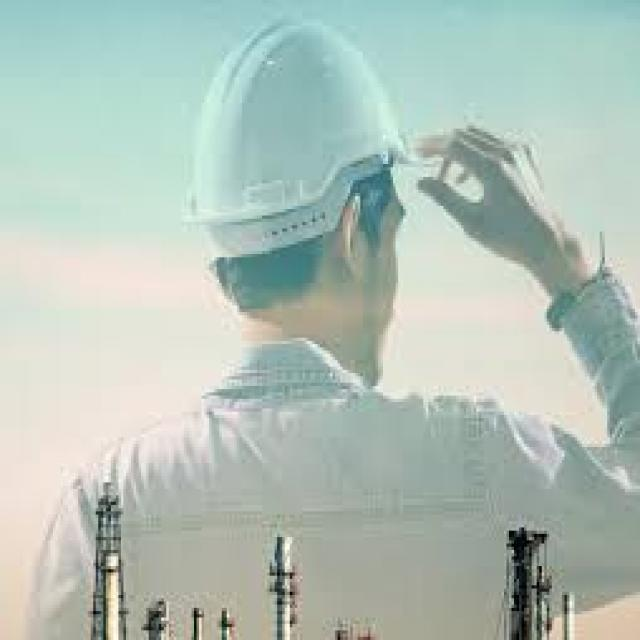safety_helmet: (171, 9, 433, 234)
